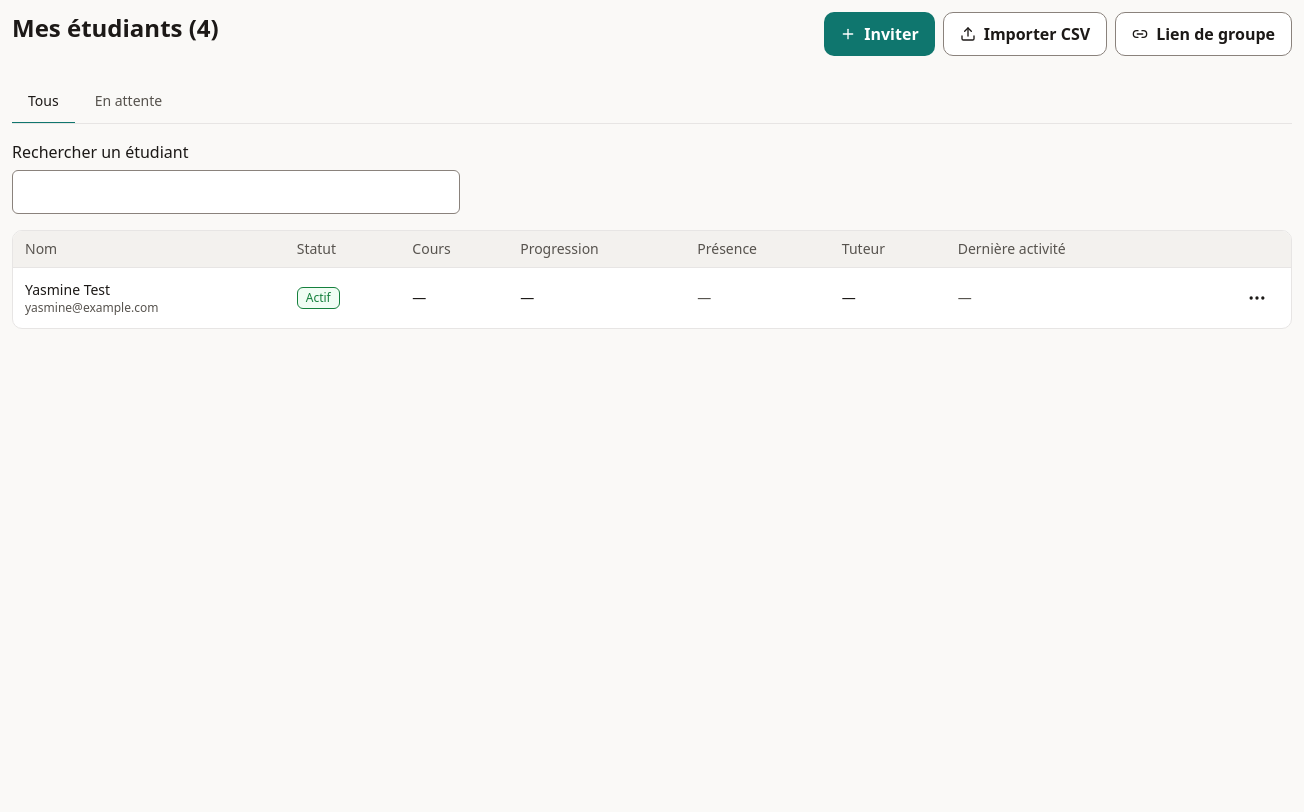
StudentsPanel › Lien de groupe toggles the invite-link card
Click the button "Lien de groupe" at (1204,34), box 1115,12 -> 1292,56
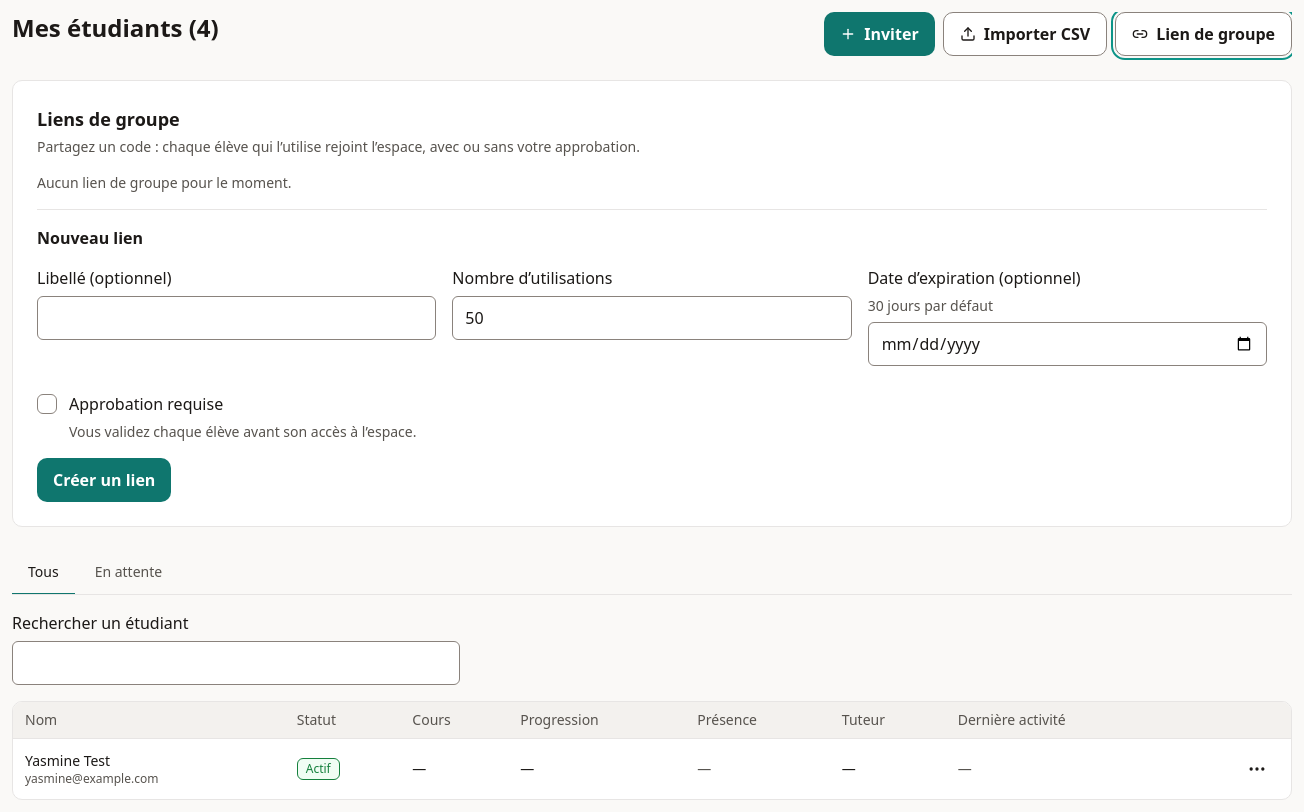
Result: the heading "Liens de groupe" is shown at 37,107 -> 180,131
